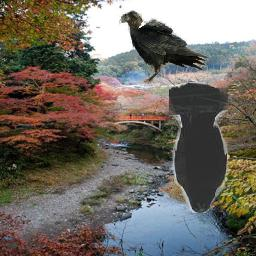Crow: (170, 83, 229, 214), (119, 10, 210, 85)
